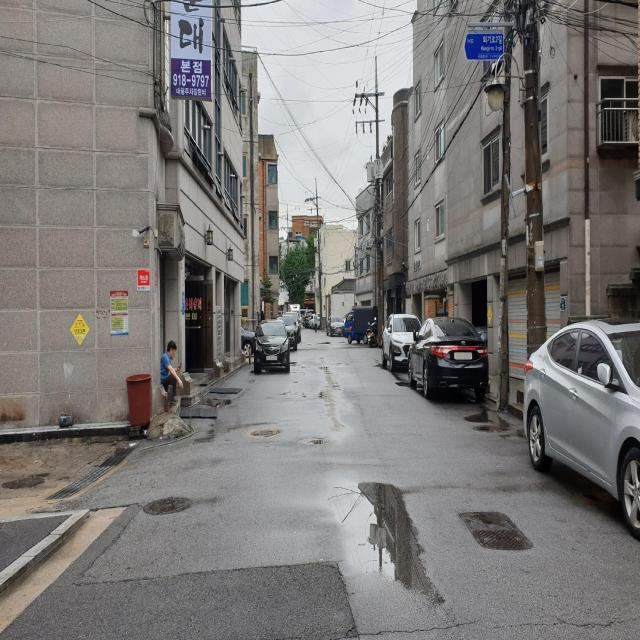car ahead at: (520, 315, 640, 544), (406, 308, 493, 402), (252, 314, 292, 376)
dustbin ahead at: (126, 360, 151, 424)
electric pole ahead at: (485, 0, 522, 419)
